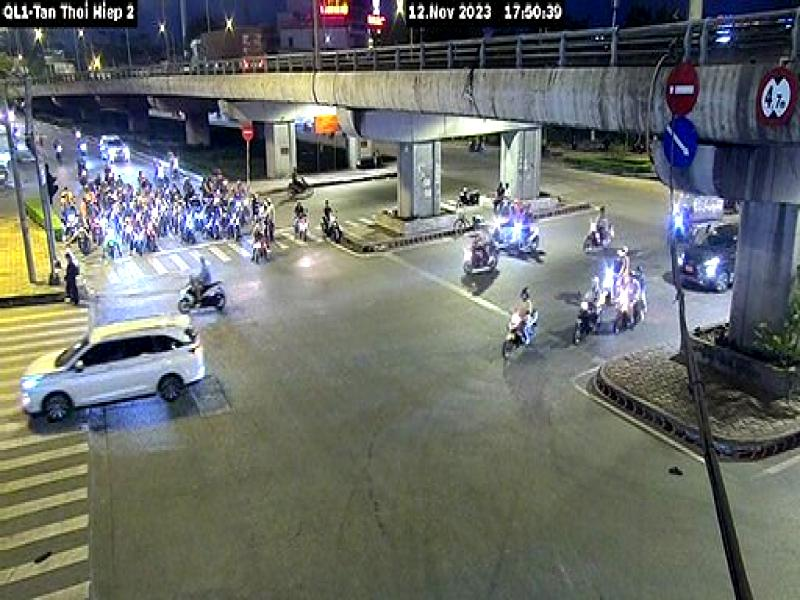truck: (709, 530, 730, 533)
